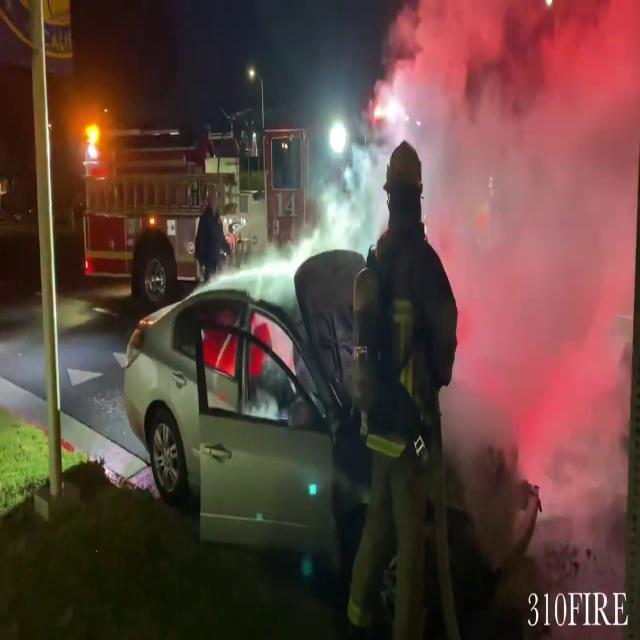Smoke: (418, 0, 638, 528)
